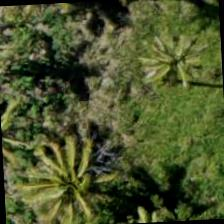Kelapa_Sawit: (120, 16, 215, 111), (23, 141, 118, 223)
